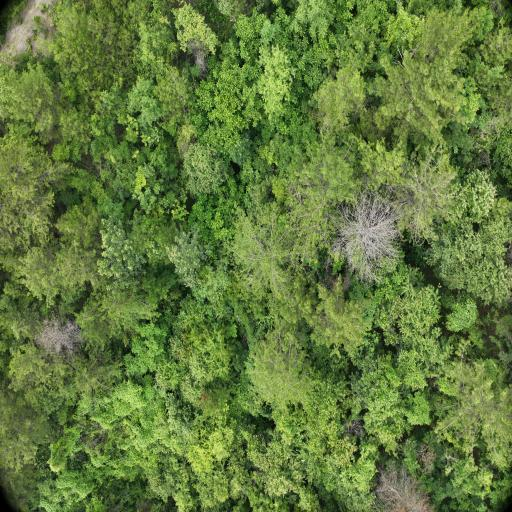dead-tree: (343, 198, 396, 261), (379, 462, 436, 512), (42, 322, 78, 348)
